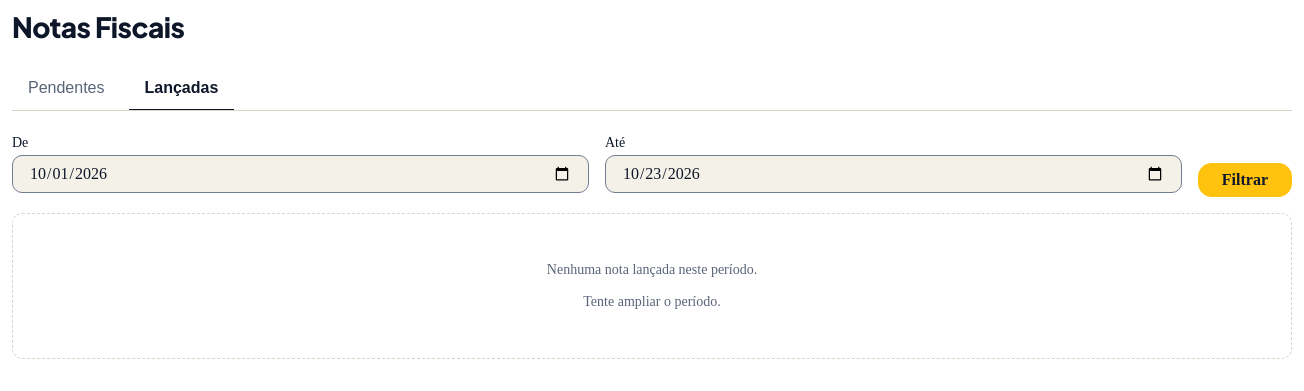
Test case: NotasFiscaisPage › lançadas: período inválido não consulta
Expected: the text "Nenhuma nota lançada neste período." is shown, [547,262,757,278]
Type "2026-09-01" into the date field labelled "Até" at (893, 174), box [605,155,1182,193]
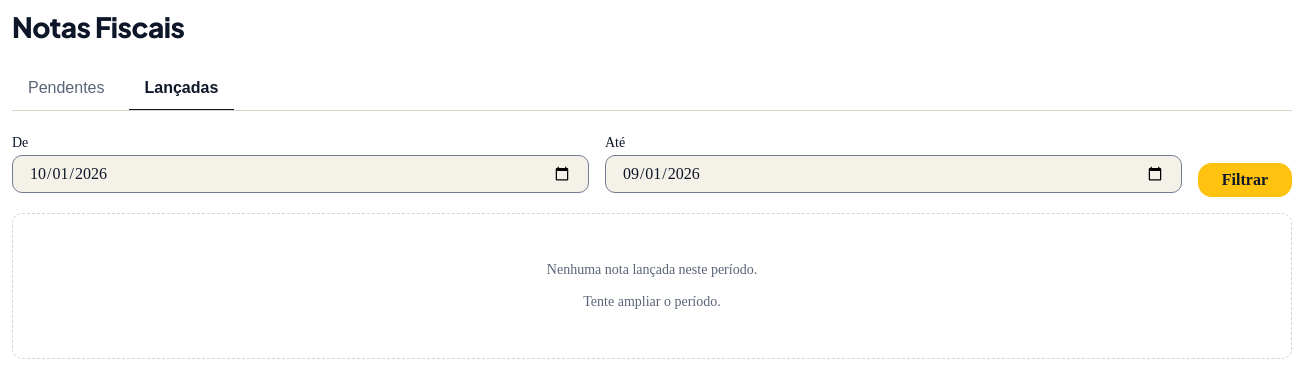
Click the button "Filtrar" at (1245, 180), box [1198,163,1292,197]
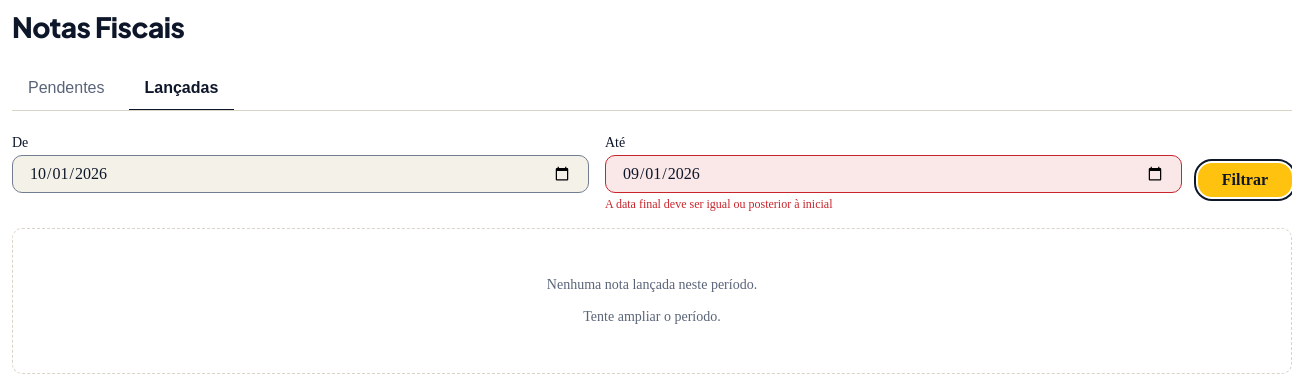
Now the text "A data final deve ser igual ou posterior à inicial" is shown, box [605,197,832,211]
